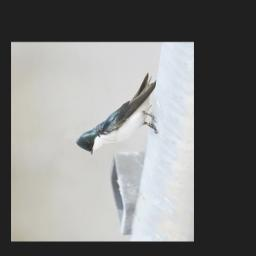Swallow: (73, 72, 162, 156)
